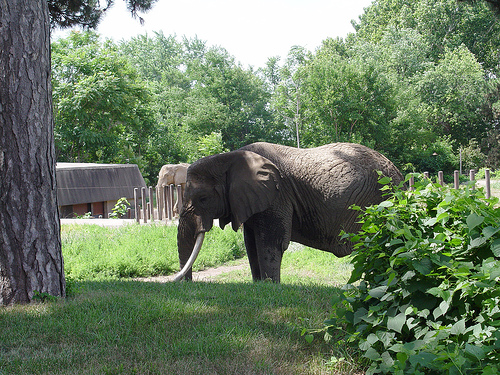elephant: (157, 136, 426, 298)
